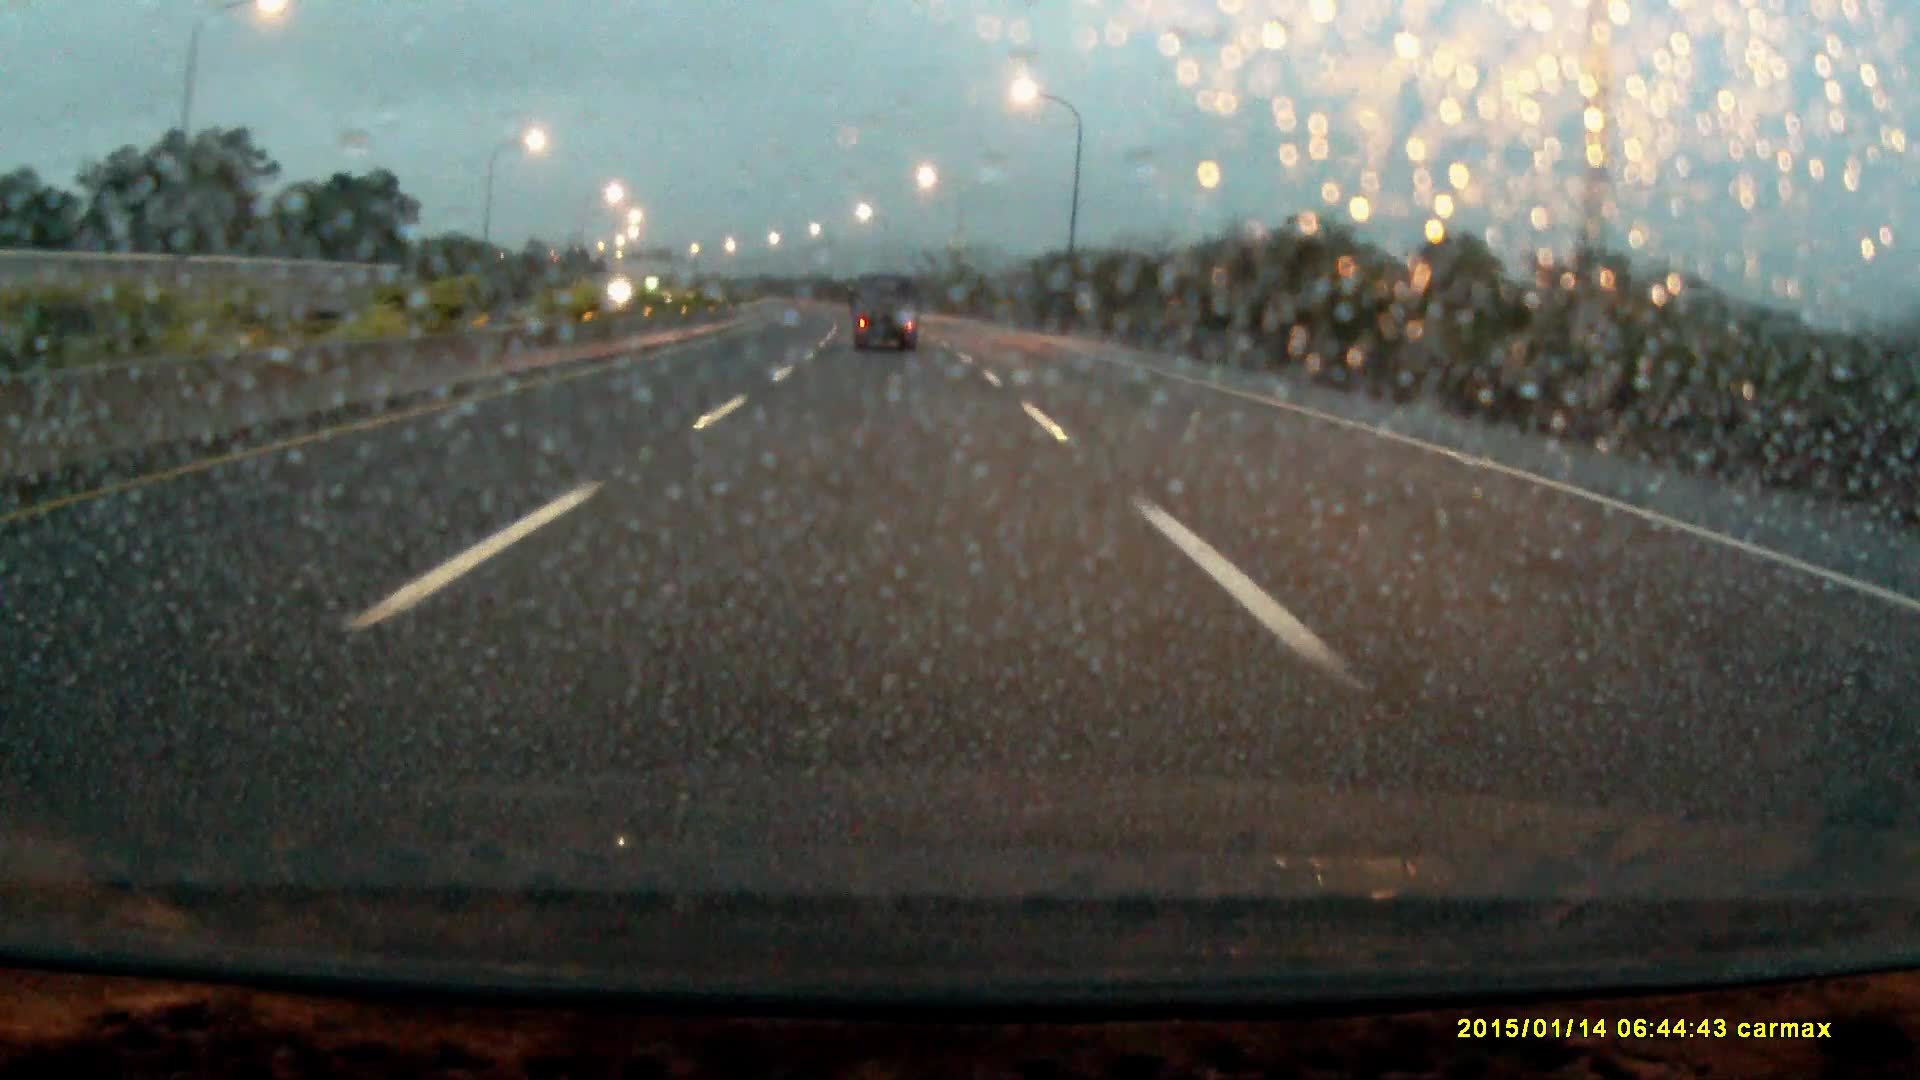vehicle: (851, 274, 920, 355)
